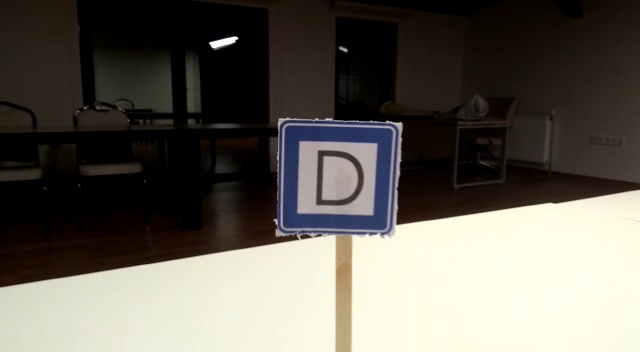durak: (275, 122, 397, 234)
